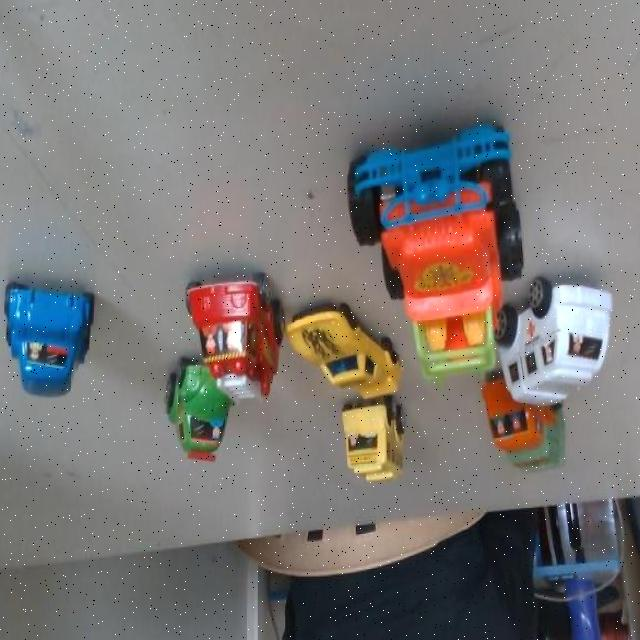car: (347, 110, 517, 320), (0, 267, 100, 406), (288, 292, 403, 404), (186, 265, 276, 401), (510, 284, 614, 396), (479, 378, 564, 479), (158, 356, 235, 460), (332, 397, 400, 493)
